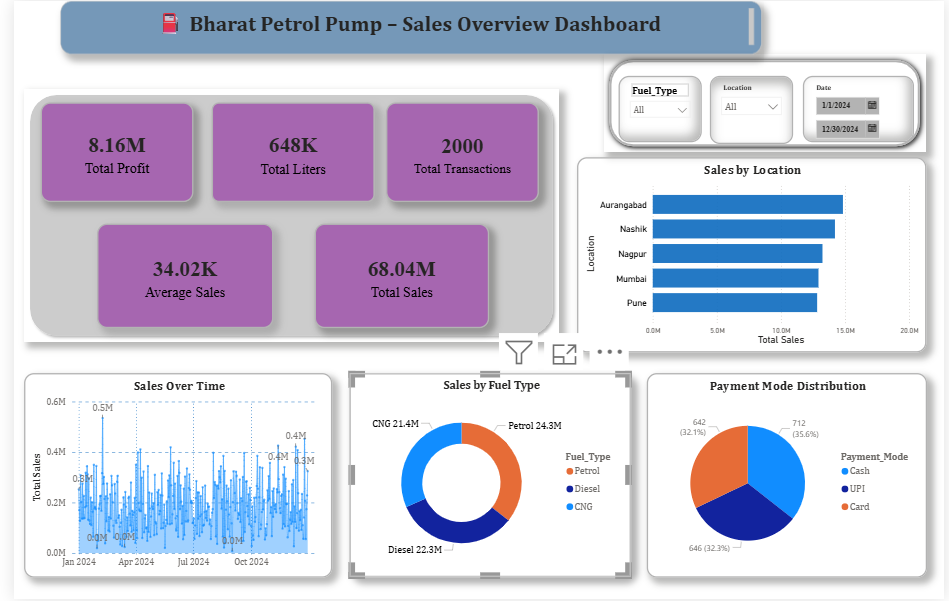

Layout of this report page (visuals, bound fields, positions):
{"tool":"powerbi","page":{"name":" Sales Overview","canvas":[1400,900],"ordinal":1},"visuals":[{"type":"shape","box":[887.5,80,485,147.5],"z":0},{"type":"shape","box":[15,132.5,805,380],"z":1000},{"type":"card","fields":{"Values":["Bharat_Petrol.Total Sales"]},"box":[452.5,335,262.5,157.5],"z":2000},{"type":"card","fields":{"Values":["Bharat_Petrol.Total Profit"]},"box":[40,152.5,230,150],"z":3000},{"type":"card","fields":{"Values":["Bharat_Petrol.Total Liters"]},"box":[297.5,152.5,245,150],"z":4000},{"type":"card","fields":{"Values":["Bharat_Petrol.Total Transactions"]},"box":[560,152.5,230,150],"z":5000},{"type":"card","fields":{"Values":["Bharat_Petrol.Average Sales"]},"box":[125,335,265,157.5],"z":6000},{"type":"textbox","box":[70,0,1055,80],"z":7000},{"type":"donutChart","title":"Sales by Fuel Type","fields":{"Category":["Bharat_Petrol.Fuel_Type"],"Y":["Bharat_Petrol.Total Sales"]},"box":[504,560,424,308],"z":8000},{"type":"clusteredBarChart","title":"Sales by Location","fields":{"Category":["Bharat_Petrol.Location"],"Y":["Bharat_Petrol.Total Sales"]},"box":[848,236,526,294],"z":9000},{"type":"pieChart","title":"Payment Mode Distribution","fields":{"Category":["Bharat_Petrol.Payment_Mode"],"Y":["Bharat_Petrol.Total Transactions"]},"box":[952,560,422,308],"z":10000},{"type":"slicer","fields":{"Values":["Bharat_Petrol.Date"]},"box":[1187.5,112.5,167.5,100],"z":11000},{"type":"slicer","fields":{"Values":["Bharat_Petrol.Fuel_Type"]},"box":[910,112.5,125,100],"z":12000},{"type":"slicer","fields":{"Values":["Bharat_Petrol.Location"]},"box":[1047.5,112.5,125,102.5],"z":13000},{"type":"lineChart","title":"Sales Over Time","fields":{"Category":["Bharat_Petrol.Date"],"Y":["Bharat_Petrol.Total Sales"]},"box":[16,560,464,308],"z":14000}]}

Visuals, with their boxes in screenshot pixels (x1, y1, x2, y2), scaled from the page's 1400x900 canvas onto the 949x601 screenshot:
shape: 602,53,930,152
shape: 10,88,556,342
card - Bharat_Petrol.Total Sales: 307,224,485,329
card - Bharat_Petrol.Total Profit: 27,102,183,202
card - Bharat_Petrol.Total Liters: 202,102,368,202
card - Bharat_Petrol.Total Transactions: 380,102,536,202
card - Bharat_Petrol.Average Sales: 85,224,264,329
textbox: 47,0,763,53
"Sales by Fuel Type" donutChart: 342,374,629,580
"Sales by Location" clusteredBarChart: 575,158,931,354
"Payment Mode Distribution" pieChart: 645,374,931,580
slicer - Bharat_Petrol.Date: 805,75,918,142
slicer - Bharat_Petrol.Fuel_Type: 617,75,702,142
slicer - Bharat_Petrol.Location: 710,75,795,144
"Sales Over Time" lineChart: 11,374,325,580
